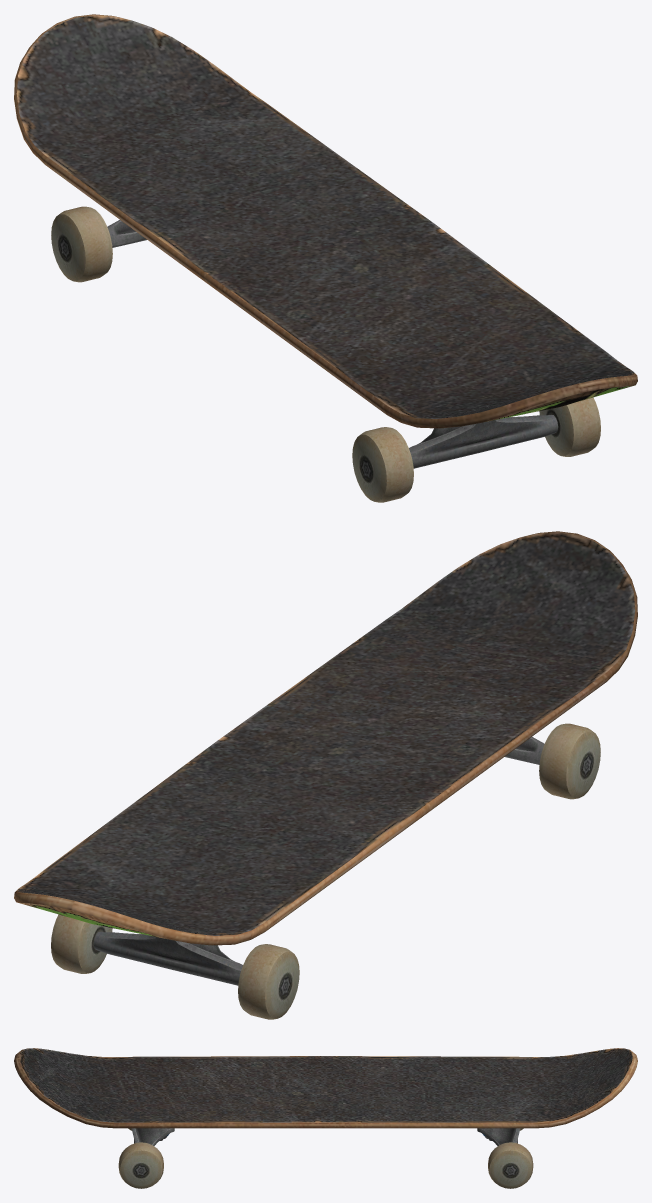
The model's file is Skateboard.obj.
3 renders of one model, top to bottom at view 1: azimuth 30°, elevation 25°; view 2: azimuth 150°, elevation 25°; view 3: azimuth 270°, elevation 25°, orthographic. The views are drawn at different scales.
Visible parts, largest first — view 1: board, trucks; view 2: board, trucks; view 3: board, trucks.
Part boxes in pixels (<box>): board: <box>14,14,637,428</box>; trucks: <box>51,206,600,502</box>; board: <box>14,531,637,945</box>; trucks: <box>51,723,600,1019</box>; board: <box>14,1048,637,1128</box>; trucks: <box>118,1128,533,1188</box>.
Size of the model in its own units: 53.17 by 36.94 by 207.
